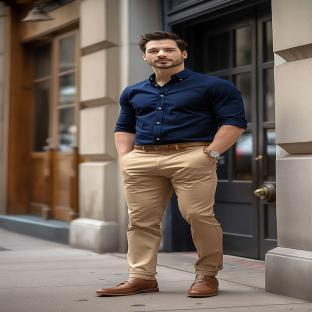Human: (96, 31, 247, 297)
